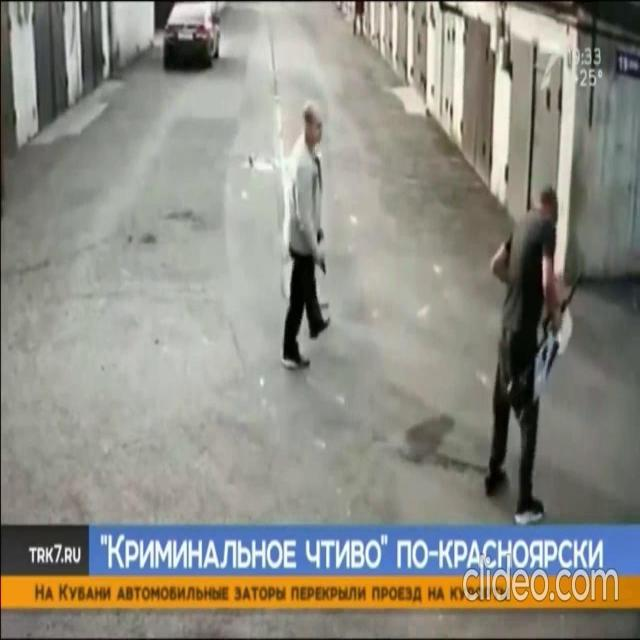pistol: (507, 261, 587, 423), (320, 252, 328, 280)
